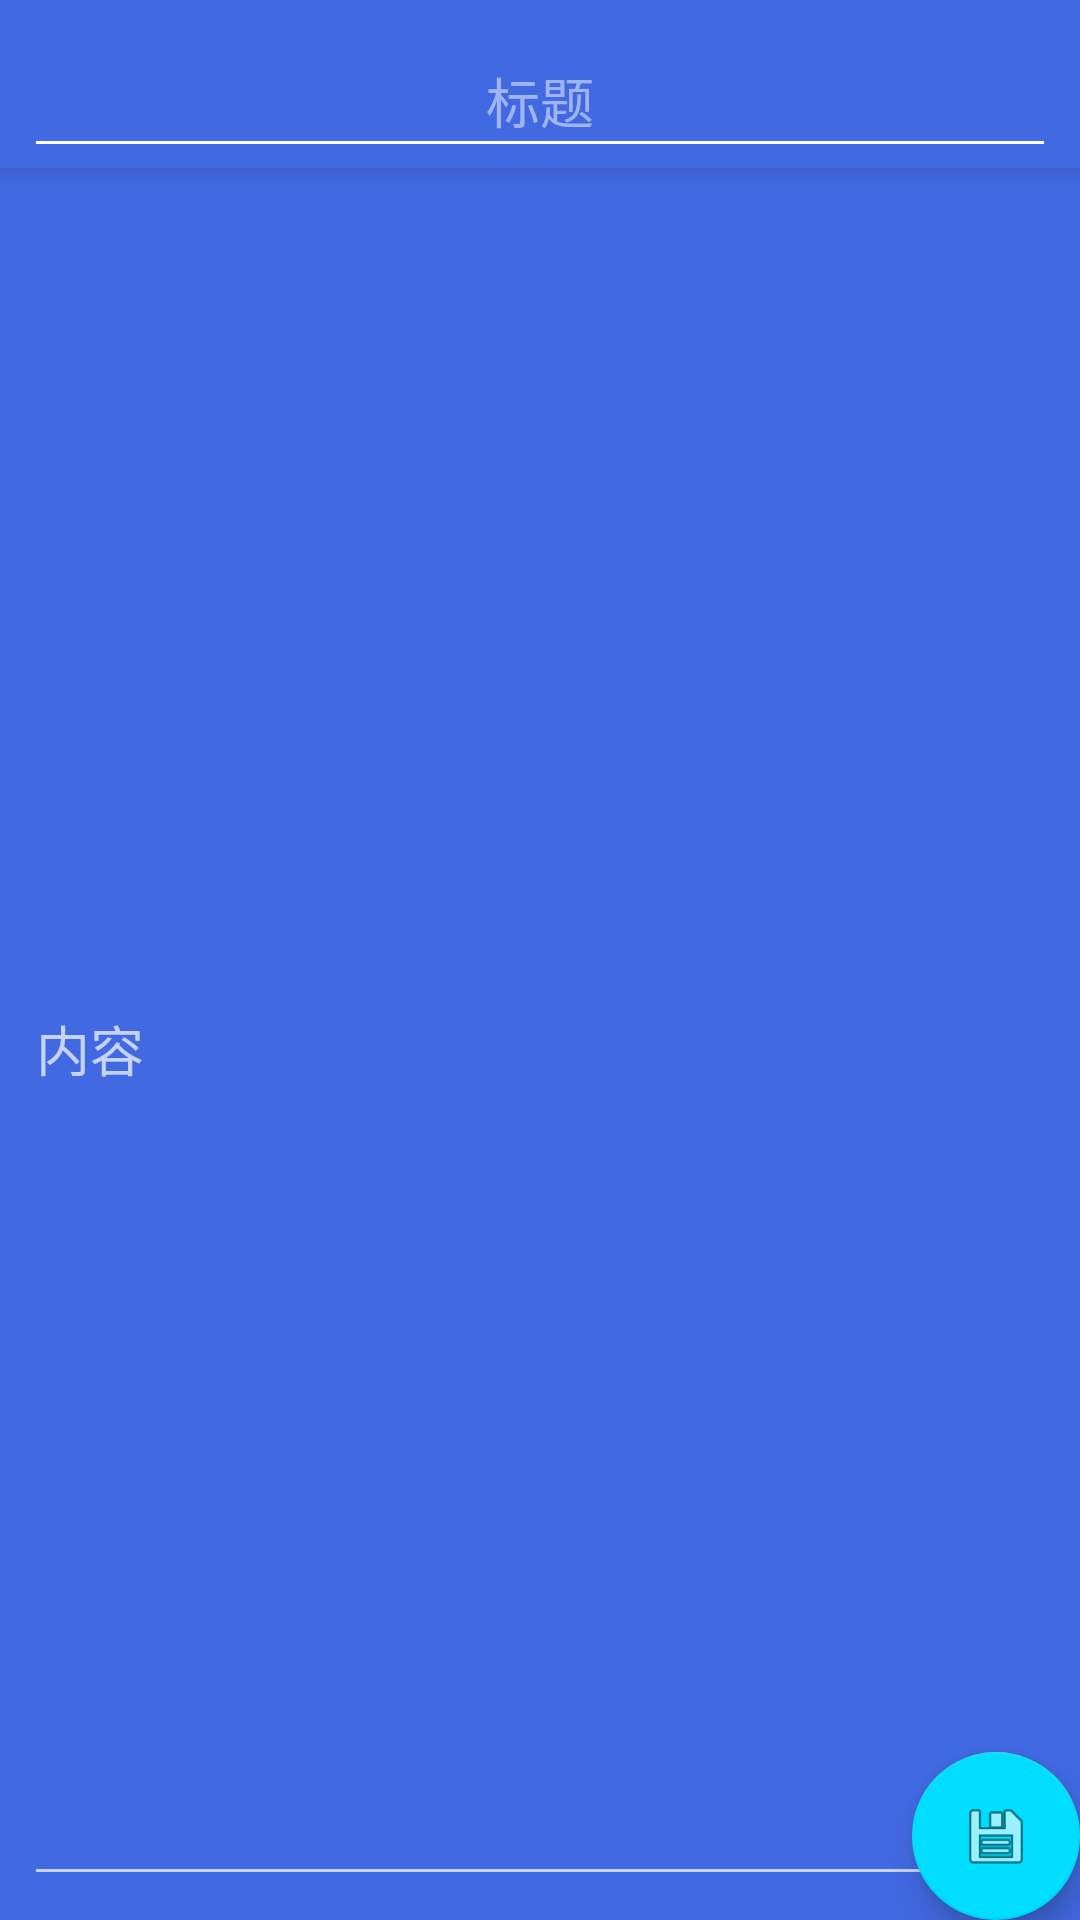

Point at icon controls on the screen. Image size 1080px×1920px, points as point (x, y).
save: point (996, 1836)
